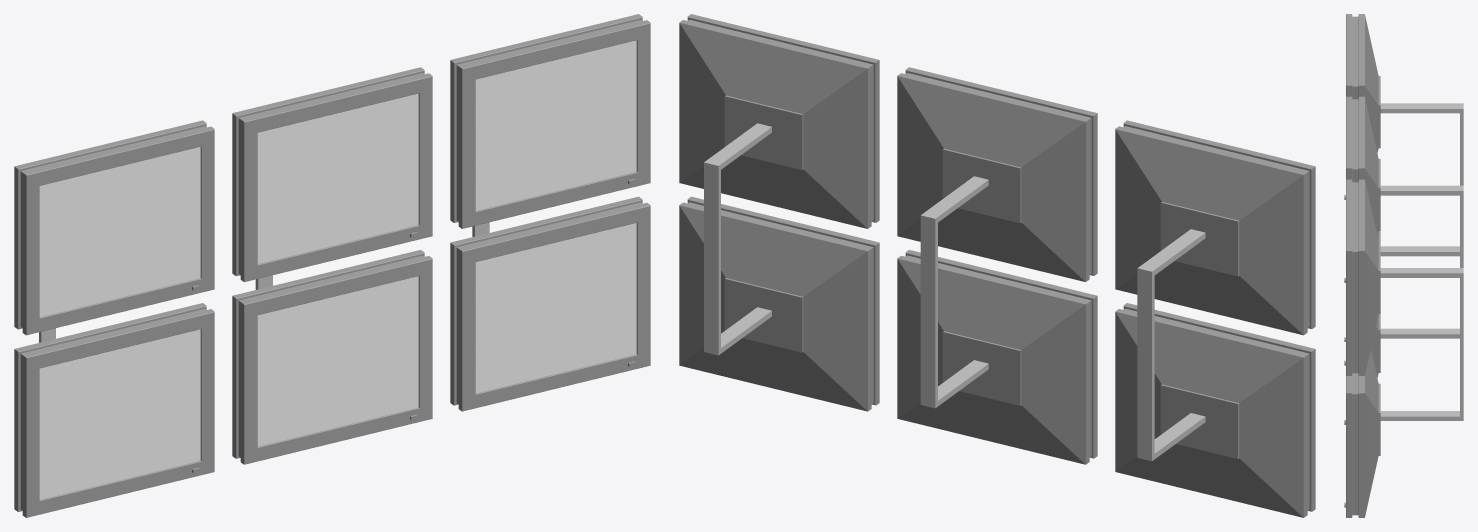
The model's file is TFTMonitors.fbx.
3 views of the same model, side by side, from view 1: azimuth 30°, elevation 25°; view 2: azimuth 150°, elevation 25°; view 3: azimuth 270°, elevation 25° (orthographic). The views are drawn at different scales.
Visible parts, largest first — view 1: TFTMonitors; view 2: TFTMonitors; view 3: TFTMonitors.
Boxes of the visible parts, x1,y1,x2,y2 form: TFTMonitors: (14,14,650,517); TFTMonitors: (679,14,1315,517); TFTMonitors: (1346,14,1463,517).
Bounding box in the file's own units: 1.44 × 0.7558 × 0.307.
